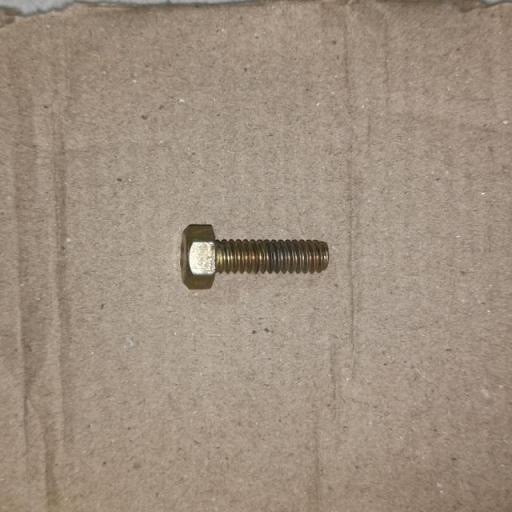Bolt: (180, 223, 330, 290)
